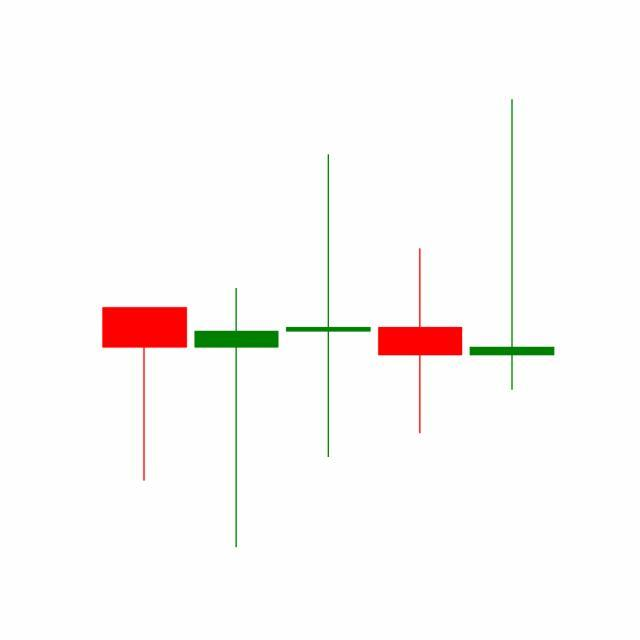Gravestone Doji: (466, 97, 559, 395)
